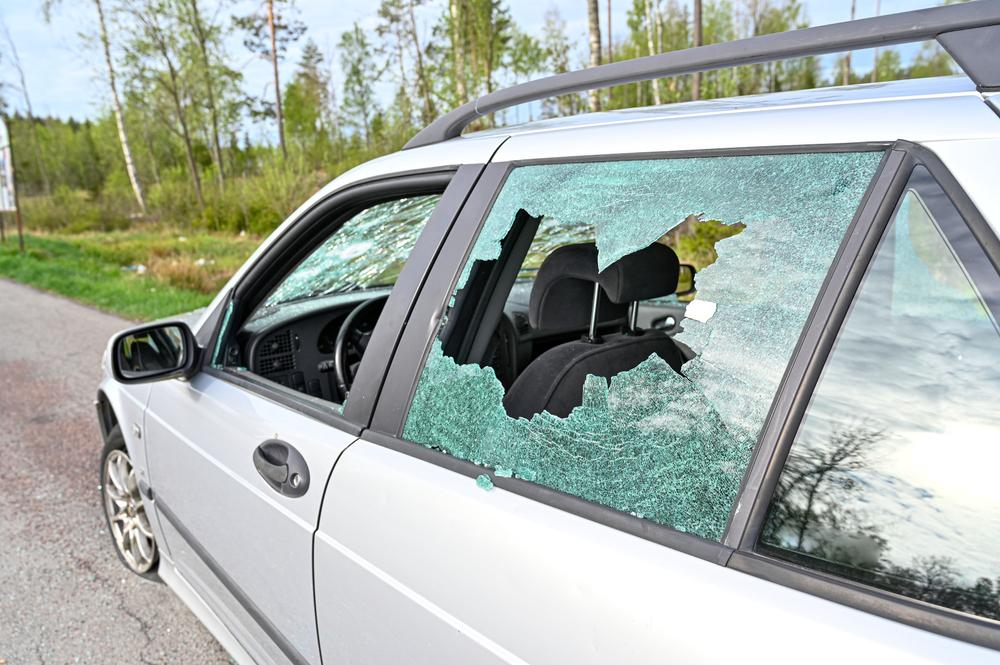glass shatter: (399, 152, 886, 542), (253, 194, 442, 314)
